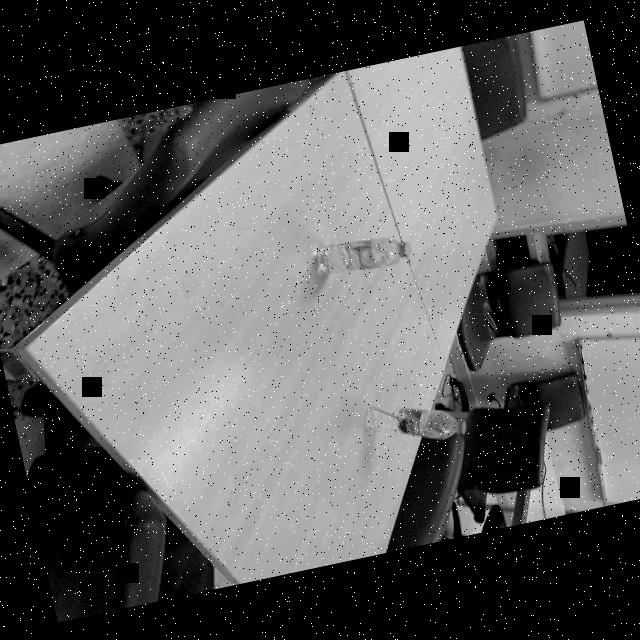plastic_bottle: (359, 387, 469, 452), (313, 228, 414, 281)
plastic_bottle_cap: (398, 239, 412, 257), (454, 416, 468, 434)
straw: (366, 392, 456, 448)
